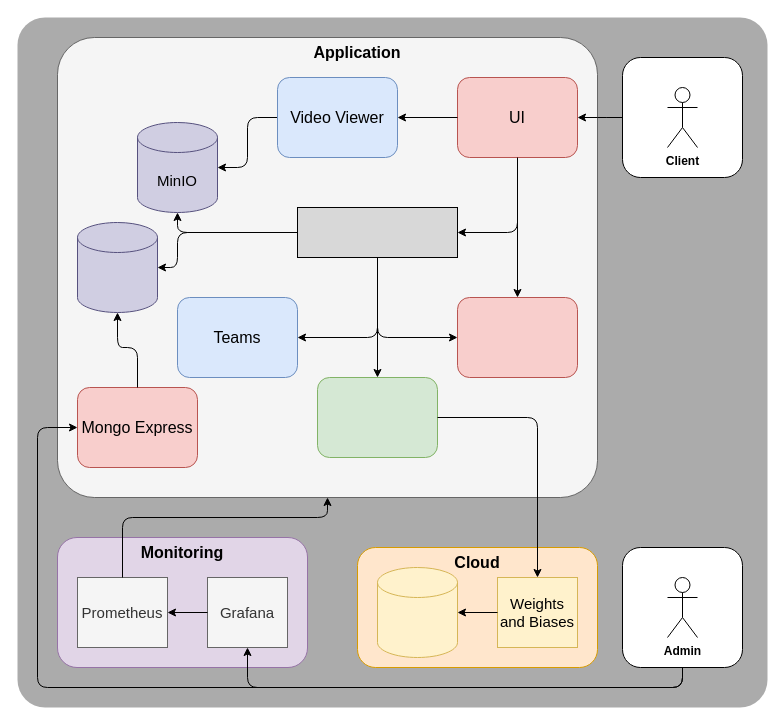
Some shapes in this 784 by 724 pixel diagram are drawn without their labels. Here are the shapes that lost their labels. From the top down, the centre of each, then its label:
At pixel 377 232: "Orchestrator".
At pixel 117 267: "MongoDB".
At pixel 517 337: "Court".
At pixel 377 417: "Trax".
At pixel 417 612: "Model Repository".
